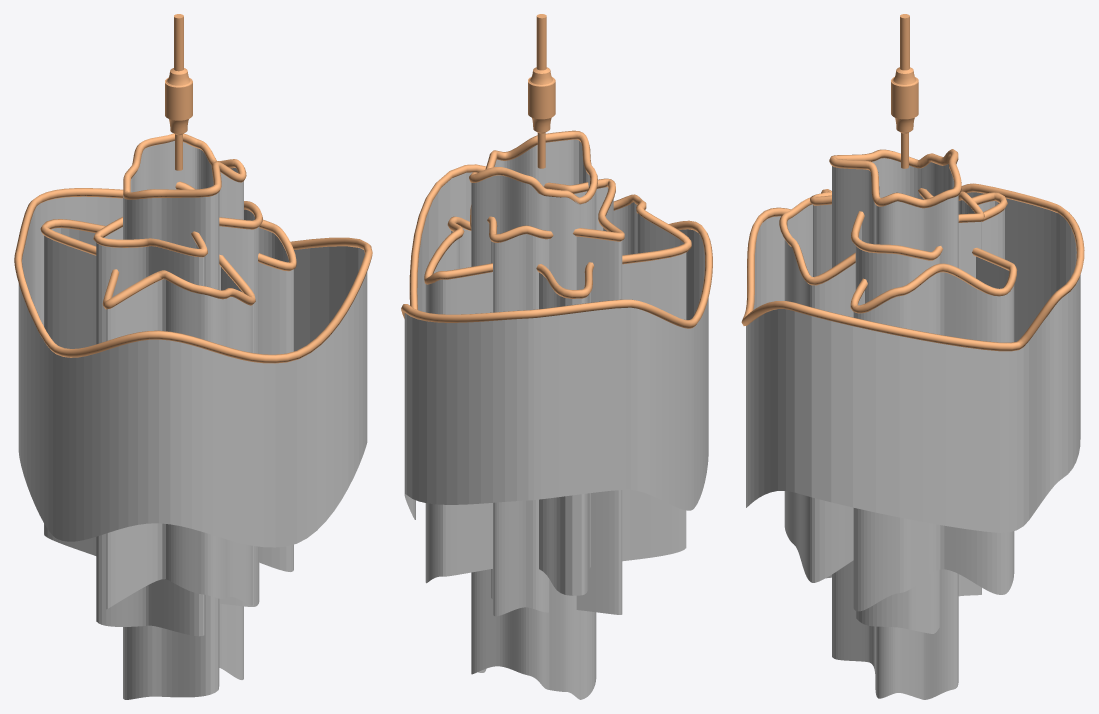
File: Chandlier.fbx
The picture shows the model from 3 angles, left to right: view 1: azimuth 30°, elevation 25°; view 2: azimuth 150°, elevation 25°; view 3: azimuth 270°, elevation 25°; orthographic projection.
Parts seen in each view (by area): view 1: Orniments.001, Orniments, Cylinder; view 2: Orniments.001, Orniments, Cylinder; view 3: Orniments.001, Orniments, Cylinder.
Part boxes in pixels (left/top/right/bottom): Orniments.001: left=18, top=141, right=367, bottom=699; Orniments: left=14, top=133, right=372, bottom=363; Cylinder: left=165, top=14, right=192, bottom=170; Orniments.001: left=404, top=139, right=708, bottom=699; Orniments: left=401, top=130, right=712, bottom=328; Cylinder: left=528, top=14, right=555, bottom=168; Orniments.001: left=746, top=158, right=1080, bottom=699; Orniments: left=741, top=149, right=1084, bottom=351; Cylinder: left=891, top=14, right=918, bottom=168.
Bounding box in the file's own units: 6.44 × 14.39 × 6.71.
